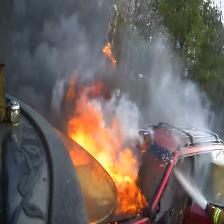fire: (54, 86, 160, 217)
smoke: (0, 0, 224, 115)
